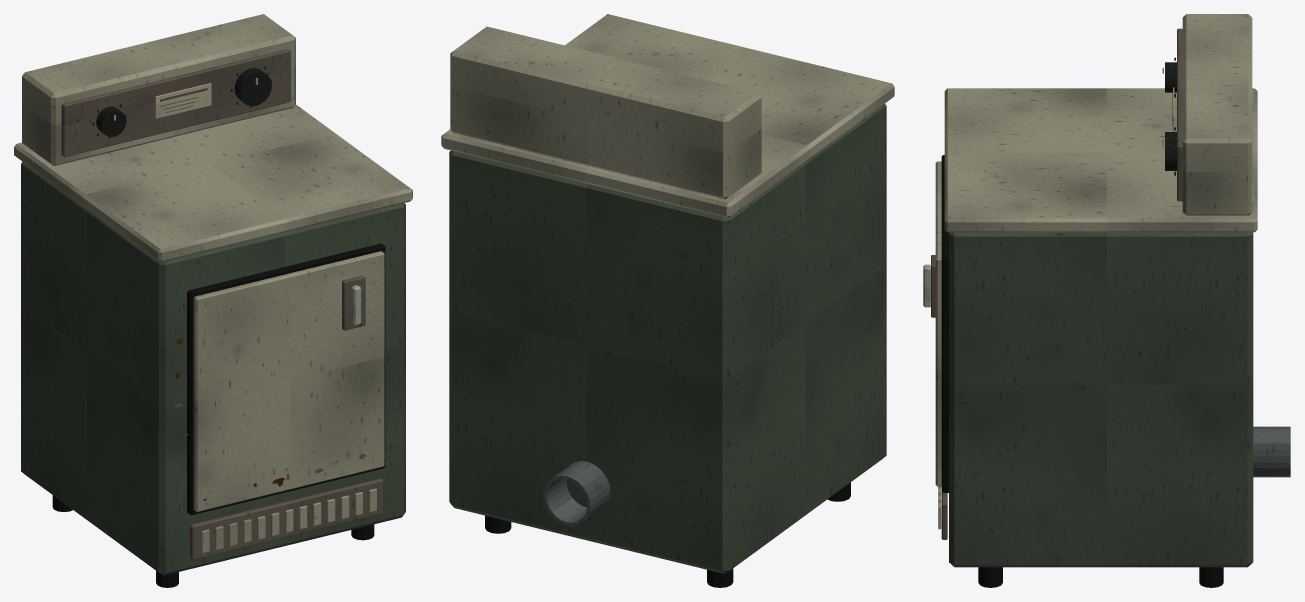
Rendered from vented_tumble_dryer.glb.
The picture shows the model from 3 angles, left to right: view 1: azimuth 30°, elevation 25°; view 2: azimuth 150°, elevation 25°; view 3: azimuth 270°, elevation 25°; orthographic projection. The views are drawn at different scales.
Parts seen in each view (by area): view 1: vented_tumble_dryer; view 2: vented_tumble_dryer; view 3: vented_tumble_dryer.
Part boxes in pixels (x1,y1,x2,y2): vented_tumble_dryer: (14, 14, 412, 587); vented_tumble_dryer: (441, 14, 894, 587); vented_tumble_dryer: (923, 14, 1290, 587).
Bounding box in the file's own units: 0.64 × 1.03 × 0.749.
10 materials, 10 textured.
